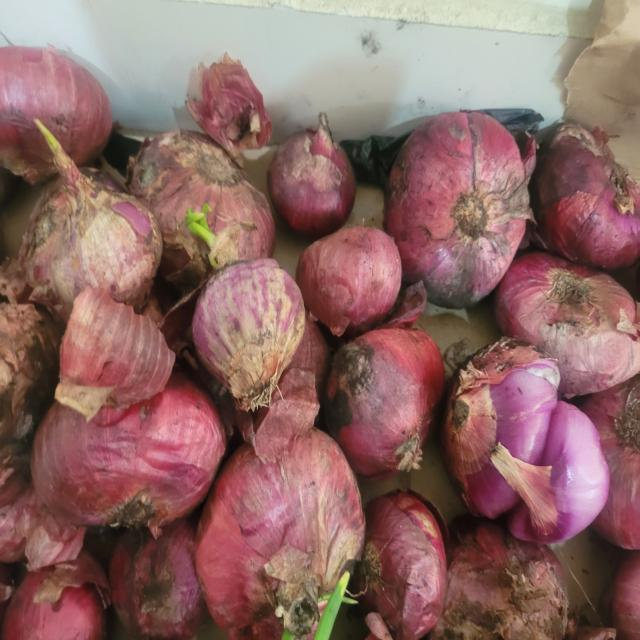mechanical_damage: (443, 322, 616, 556)
